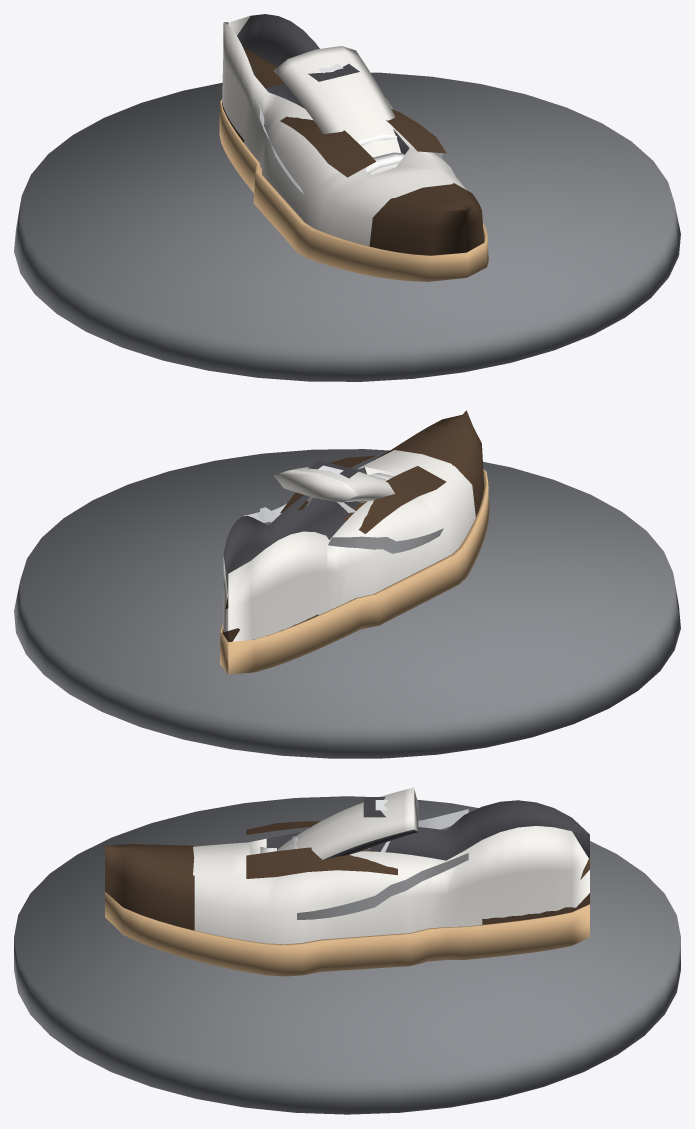
File: test_perfect_sneaker.glb
The picture shows the model from 3 angles, top to bottom: view 1: azimuth 30°, elevation 25°; view 2: azimuth 150°, elevation 25°; view 3: azimuth 270°, elevation 25°; orthographic projection.
Visible parts, largest first — view 1: Sneaker_Pedestal, Sneaker_Upper, Sneaker_Design_Layers, Sneaker_Sole, Sneaker_Tongue, Sneaker_Laces; view 2: Sneaker_Pedestal, Sneaker_Upper, Sneaker_Sole, Sneaker_Design_Layers, Sneaker_Tongue; view 3: Sneaker_Pedestal, Sneaker_Upper, Sneaker_Sole, Sneaker_Design_Layers, Sneaker_Tongue.
Part boxes in pixels (left/top/right/bottom): Sneaker_Pedestal: left=14, top=72, right=680, bottom=381; Sneaker_Upper: left=222, top=14, right=466, bottom=246; Sneaker_Design_Layers: left=222, top=47, right=484, bottom=255; Sneaker_Sole: left=219, top=99, right=488, bottom=281; Sneaker_Tongue: left=273, top=46, right=400, bottom=175; Sneaker_Laces: left=357, top=134, right=404, bottom=174; Sneaker_Pedestal: left=14, top=449, right=680, bottom=758; Sneaker_Upper: left=222, top=450, right=475, bottom=641; Sneaker_Sole: left=220, top=469, right=489, bottom=674; Sneaker_Design_Layers: left=222, top=410, right=484, bottom=641; Sneaker_Tongue: left=274, top=460, right=394, bottom=502; Sneaker_Pedestal: left=14, top=796, right=680, bottom=1114; Sneaker_Upper: left=193, top=800, right=589, bottom=944; Sneaker_Sole: left=105, top=892, right=589, bottom=976; Sneaker_Design_Layers: left=105, top=809, right=589, bottom=930; Sneaker_Tongue: left=277, top=787, right=418, bottom=859.
Bounding box in the file's own units: 0.3383 × 0.094 × 0.33.
